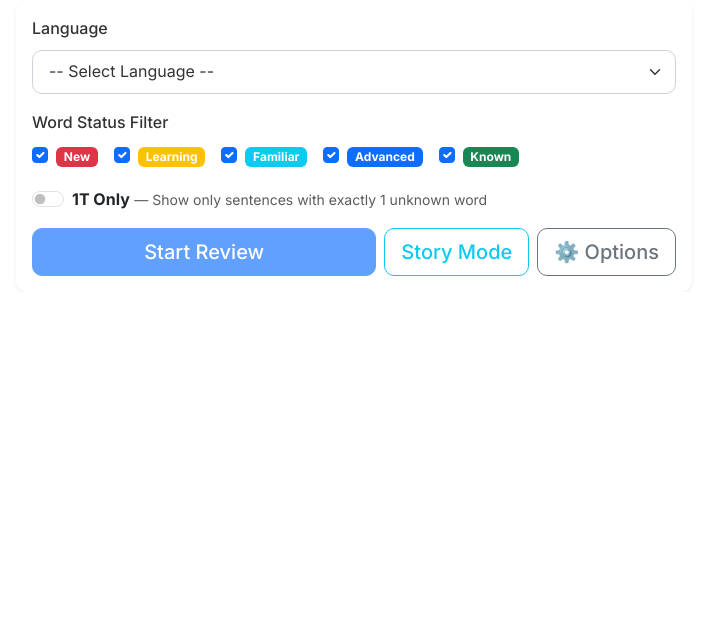
Test: SrsReview › starts a review session with the configured filter and renders the first card
The width and height of the screenshot is (709, 642).
Select "Spanish" in the dropdown at (354, 72), box [32, 50, 676, 94]
(page scrolled)
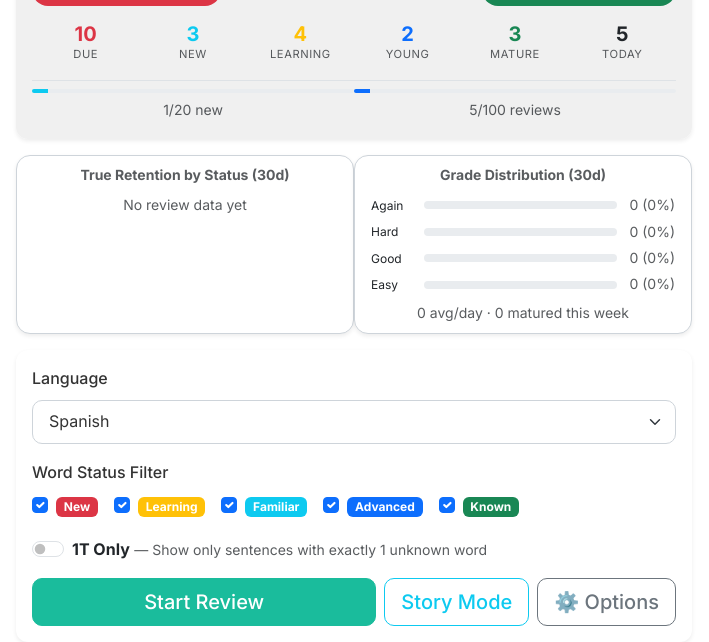
Expected: the button "Start Review" is enabled
Click the button "Start Review" at (204, 602), box [32, 578, 376, 626]
(page scrolled)
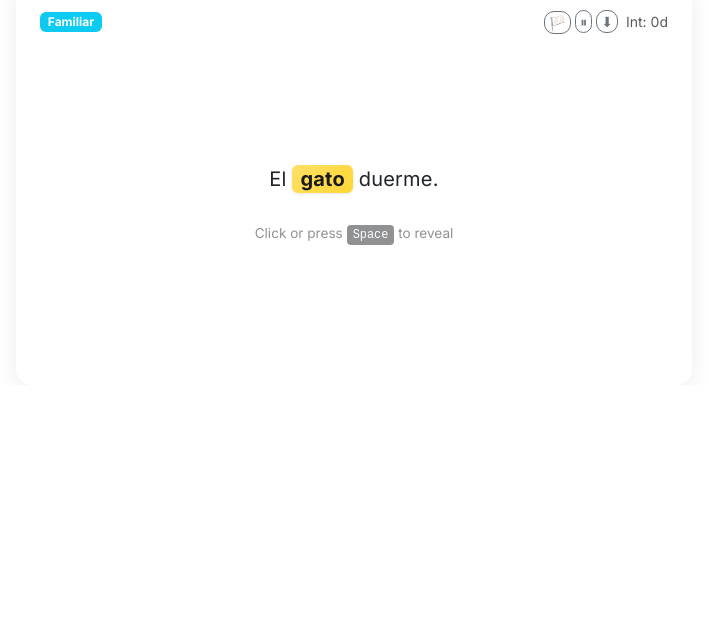
Expected: the text "El gato duerme." is shown, [269, 159, 439, 199]
Expected: the text "Click or press Space to reveal" is shown, [255, 223, 453, 245]
